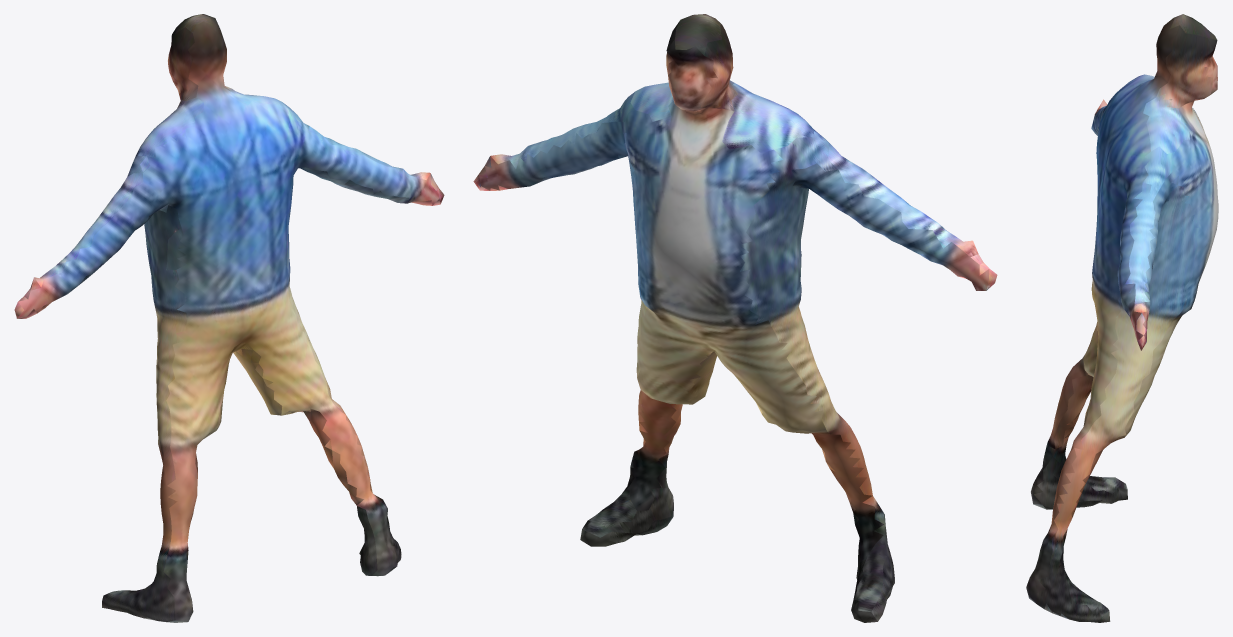
3 views of the same model, side by side, from view 1: azimuth 30°, elevation 25°; view 2: azimuth 150°, elevation 25°; view 3: azimuth 270°, elevation 25° (orthographic). The views are drawn at different scales.
Parts seen in each view (by area): view 1: world; view 2: world; view 3: world.
Part boxes in pixels (bbox=[...]): world: bbox=[14, 14, 444, 622]; world: bbox=[473, 14, 997, 622]; world: bbox=[1026, 14, 1218, 622].
Size of the model in its own units: 0.707 by 0.8082 by 0.2622.
Materials: 1 (1 with a texture image).
